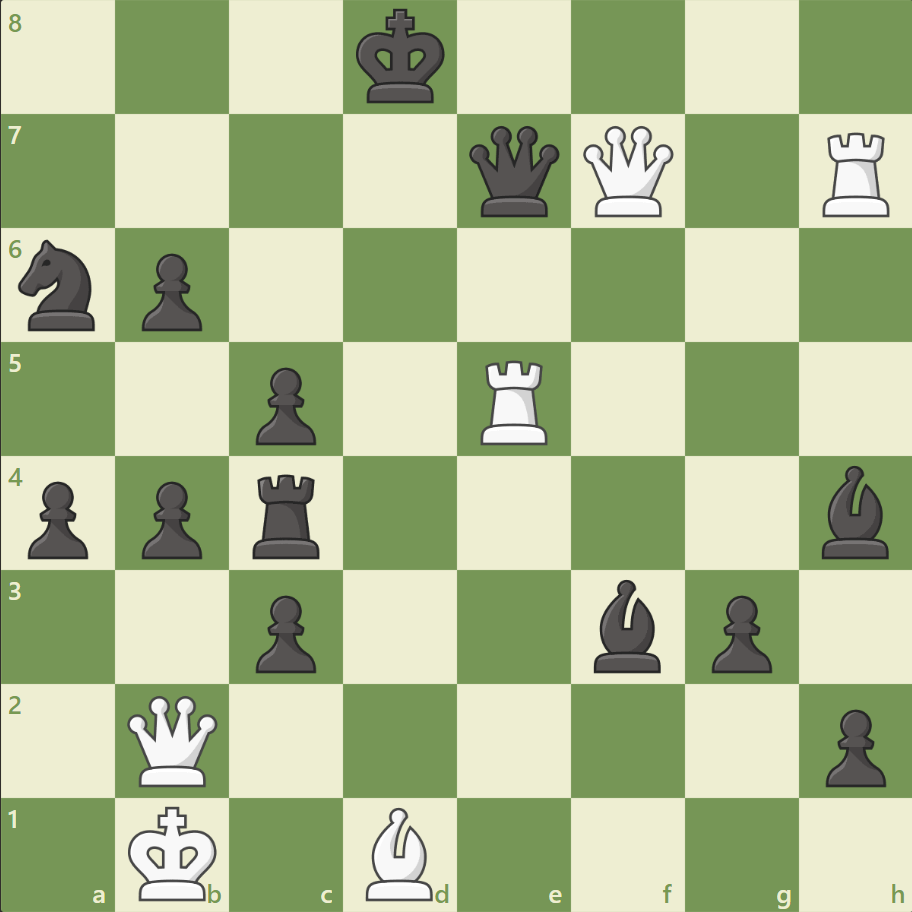B: (358, 801, 442, 904)
K: (124, 798, 224, 906)
Q: (578, 122, 677, 222), (124, 690, 223, 789)
R: (814, 125, 897, 222), (473, 352, 556, 449)
b: (812, 460, 896, 563), (585, 574, 669, 676)
k: (351, 4, 451, 112)
n: (11, 234, 108, 337)
p: (133, 246, 208, 337), (247, 359, 322, 450), (20, 473, 95, 564), (133, 473, 208, 564), (247, 586, 322, 677), (701, 586, 776, 677), (815, 700, 889, 791)
q: (464, 122, 563, 222)
r: (246, 466, 329, 563)
